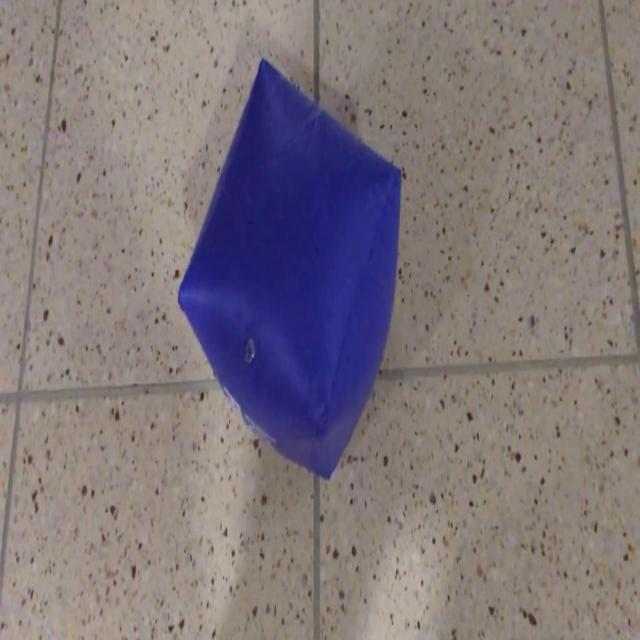frc_cube: (177, 57, 401, 479)
